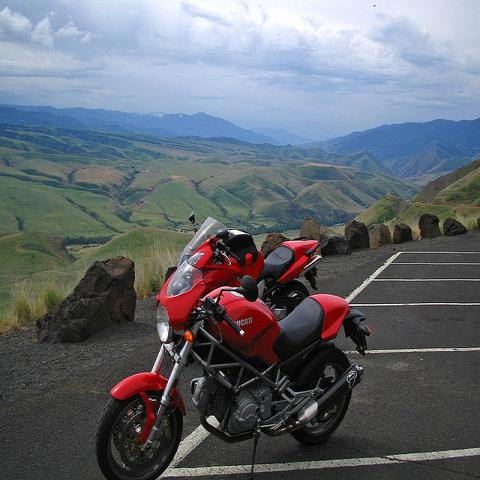motorcycle: (97, 215, 371, 479)
